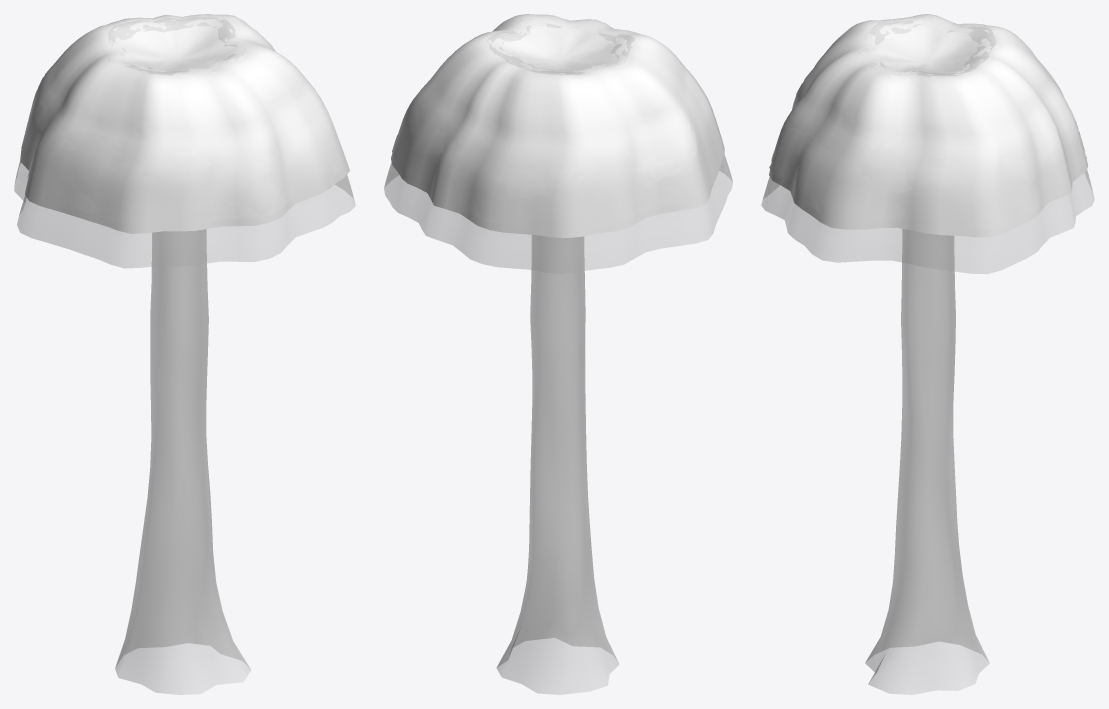
Rendered from Prehistoric Playground Water Jet.obj.
3 renders of one model, left to right at view 1: azimuth 30°, elevation 25°; view 2: azimuth 150°, elevation 25°; view 3: azimuth 270°, elevation 25°, orthographic.
Parts seen in each view (by area): view 1: FXT_cloud_fluffy_lining_3strip_fr2_s04rp2B07AB3A930_fb2B092BEA3F, fxt_water_geyser_d_fr2_s04rp2B07AB3ADB0_fb2B0BC9D3140_id0280.001, FXT_FXM_waterfishsub_underwaterTrails_0_fr2_s04rp2B07AB3A930_fb2; view 2: FXT_cloud_fluffy_lining_3strip_fr2_s04rp2B07AB3A930_fb2B092BEA3F, fxt_water_geyser_d_fr2_s04rp2B07AB3ADB0_fb2B0BC9D3140_id0280.001, FXT_FXM_waterfishsub_underwaterTrails_0_fr2_s04rp2B07AB3A930_fb2; view 3: FXT_cloud_fluffy_lining_3strip_fr2_s04rp2B07AB3A930_fb2B092BEA3F, fxt_water_geyser_d_fr2_s04rp2B07AB3ADB0_fb2B0BC9D3140_id0280.001, FXT_FXM_waterfishsub_underwaterTrails_0_fr2_s04rp2B07AB3A930_fb2.
Part boxes in pixels (x1=…): FXT_cloud_fluffy_lining_3strip_fr2_s04rp2B07AB3A930_fb2B092BEA3F: x1=20, y1=14, x2=349, y2=233; fxt_water_geyser_d_fr2_s04rp2B07AB3ADB0_fb2B0BC9D3140_id0280.001: x1=14, y1=17, x2=355, y2=694; FXT_FXM_waterfishsub_underwaterTrails_0_fr2_s04rp2B07AB3A930_fb2: x1=21, y1=16, x2=342, y2=225; FXT_cloud_fluffy_lining_3strip_fr2_s04rp2B07AB3A930_fb2B092BEA3F: x1=391, y1=14, x2=724, y2=237; fxt_water_geyser_d_fr2_s04rp2B07AB3ADB0_fb2B0BC9D3140_id0280.001: x1=384, y1=24, x2=732, y2=694; FXT_FXM_waterfishsub_underwaterTrails_0_fr2_s04rp2B07AB3A930_fb2: x1=392, y1=18, x2=722, y2=226; FXT_cloud_fluffy_lining_3strip_fr2_s04rp2B07AB3A930_fb2B092BEA3F: x1=769, y1=14, x2=1088, y2=237; fxt_water_geyser_d_fr2_s04rp2B07AB3ADB0_fb2B0BC9D3140_id0280.001: x1=761, y1=20, x2=1094, y2=694; FXT_FXM_waterfishsub_underwaterTrails_0_fr2_s04rp2B07AB3A930_fb2: x1=769, y1=16, x2=1086, y2=229.
Size of the model in its own units: 17.93 by 35.71 by 17.37.
